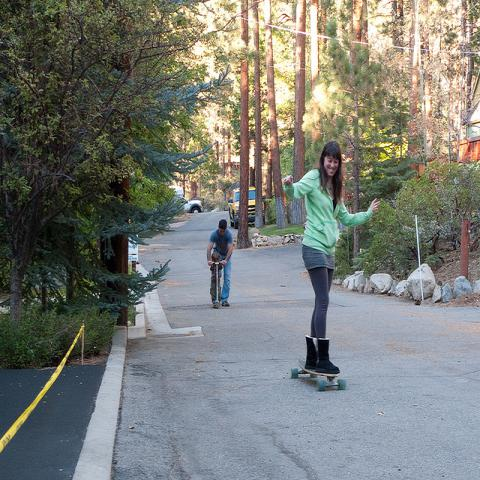car: (228, 187, 264, 229), (176, 196, 203, 213)
truck: (228, 186, 266, 230), (171, 185, 204, 213)
